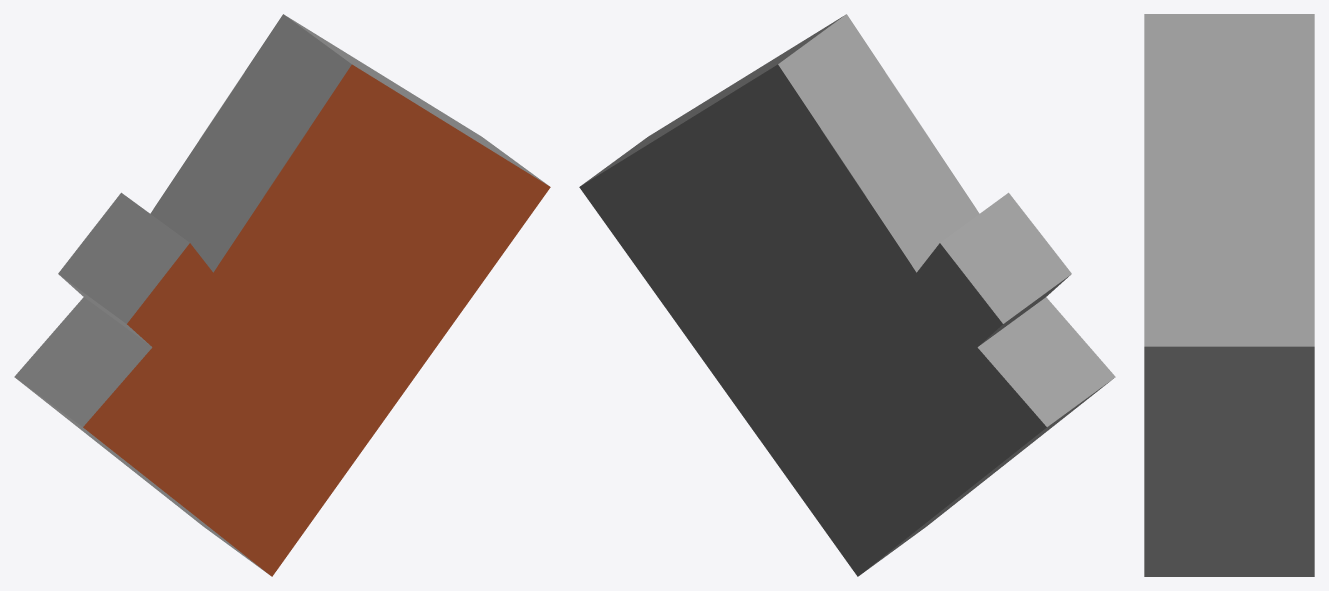
File: construction_1985_assumed_A_Casa_h6m.obj
3 views of the same model, side by side, from view 1: azimuth 30°, elevation 25°; view 2: azimuth 150°, elevation 25°; view 3: azimuth 270°, elevation 25° (orthographic). The views are drawn at different scales.
Visible parts, largest first — view 1: construction_1985_assumed_A_Casa; view 2: construction_1985_assumed_A_Casa; view 3: construction_1985_assumed_A_Casa.
Boxes of the visible parts, box(x1,y1,x2,y2) form: construction_1985_assumed_A_Casa: box(14, 14, 550, 576); construction_1985_assumed_A_Casa: box(579, 14, 1115, 576); construction_1985_assumed_A_Casa: box(1144, 14, 1314, 576).
Bounding box in the file's own units: 23.57 × 23.74 × 6.
